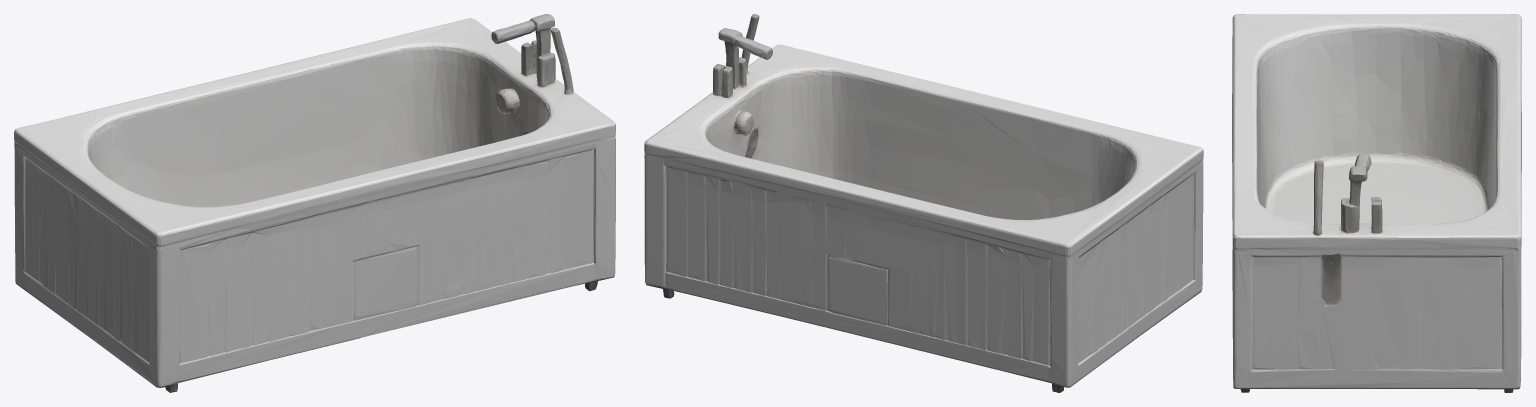
The model's file is bathtub.glb.
The picture shows the model from 3 angles, left to right: view 1: azimuth 30°, elevation 25°; view 2: azimuth 150°, elevation 25°; view 3: azimuth 270°, elevation 25°; orthographic projection. The views are drawn at different scales.
Parts seen in each view (by area): view 1: geometry_0; view 2: geometry_0; view 3: geometry_0.
Part boxes in pixels (left/top/right/bottom): geometry_0: left=14, top=14, right=615, bottom=392; geometry_0: left=644, top=14, right=1203, bottom=392; geometry_0: left=1232, top=14, right=1521, bottom=392.
Size of the model in its own units: 0.9973 by 0.4822 by 0.5468.
1 material, 1 textured.
